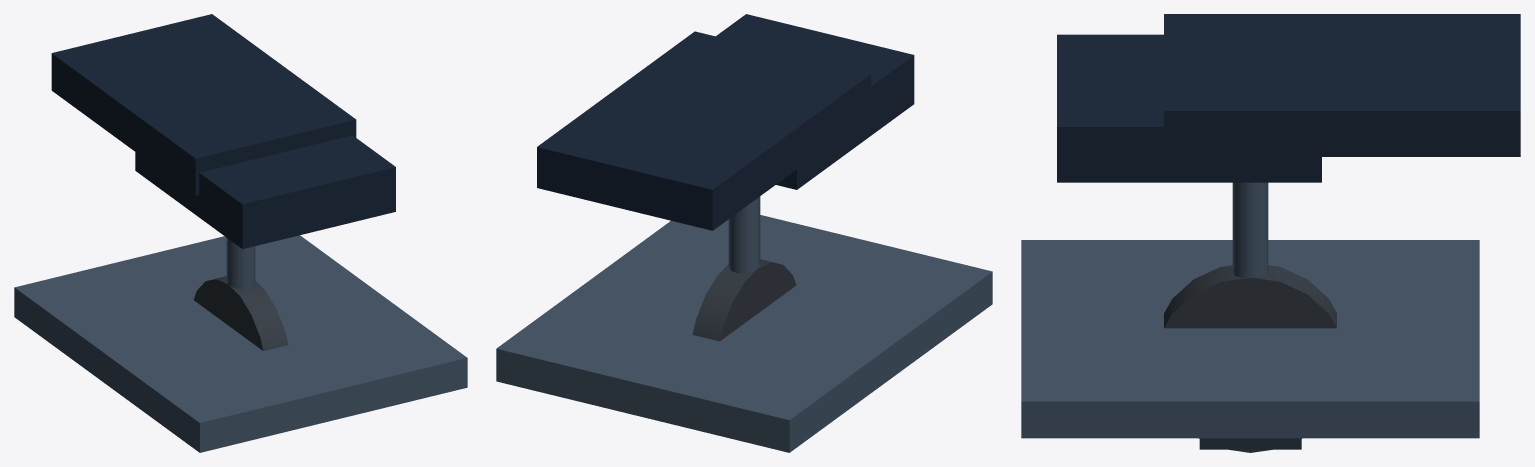
File: plate_hip_thrust.glb
The picture shows the model from 3 angles, left to right: view 1: azimuth 30°, elevation 25°; view 2: azimuth 150°, elevation 25°; view 3: azimuth 270°, elevation 25°; orthographic projection. The views are drawn at different scales.
Parts seen in each view (by area): view 1: base, back, seat, LweightPlate, post; view 2: base, back, seat, LweightPlate, post; view 3: base, back, seat, LweightPlate, post, hipPad.
Boxes of the visible parts, x1=… form: base: x1=14, y1=235, x2=467, y2=452; back: x1=51, y1=14, x2=356, y2=195; seat: x1=135, y1=135, x2=395, y2=249; LweightPlate: x1=193, y1=276, x2=288, y2=351; post: x1=226, y1=238, x2=255, y2=289; base: x1=496, y1=215, x2=992, y2=452; back: x1=537, y1=31, x2=870, y2=230; seat: x1=716, y1=14, x2=914, y2=189; LweightPlate: x1=692, y1=259, x2=796, y2=341; post: x1=728, y1=196, x2=760, y2=273; base: x1=1021, y1=240, x2=1479, y2=438; back: x1=1164, y1=14, x2=1520, y2=156; seat: x1=1057, y1=34, x2=1321, y2=182; LweightPlate: x1=1164, y1=265, x2=1336, y2=452; post: x1=1232, y1=182, x2=1268, y2=277; hipPad: x1=1199, y1=438, x2=1301, y2=449.
Bounding box in the file's own units: 0.75 × 0.83 × 0.98.
